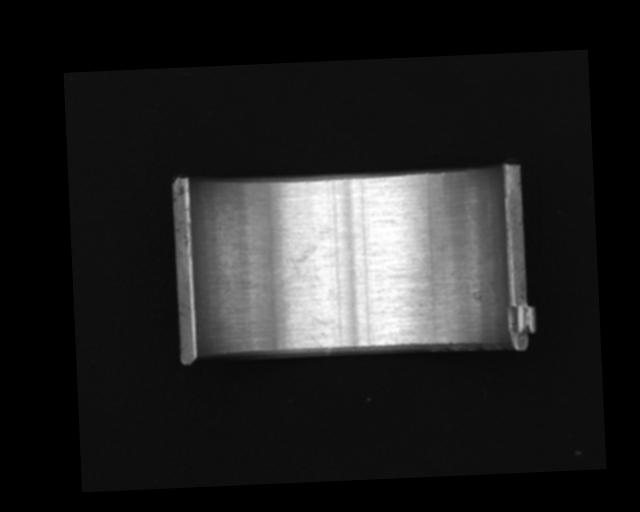blot: (281, 242, 322, 288)
